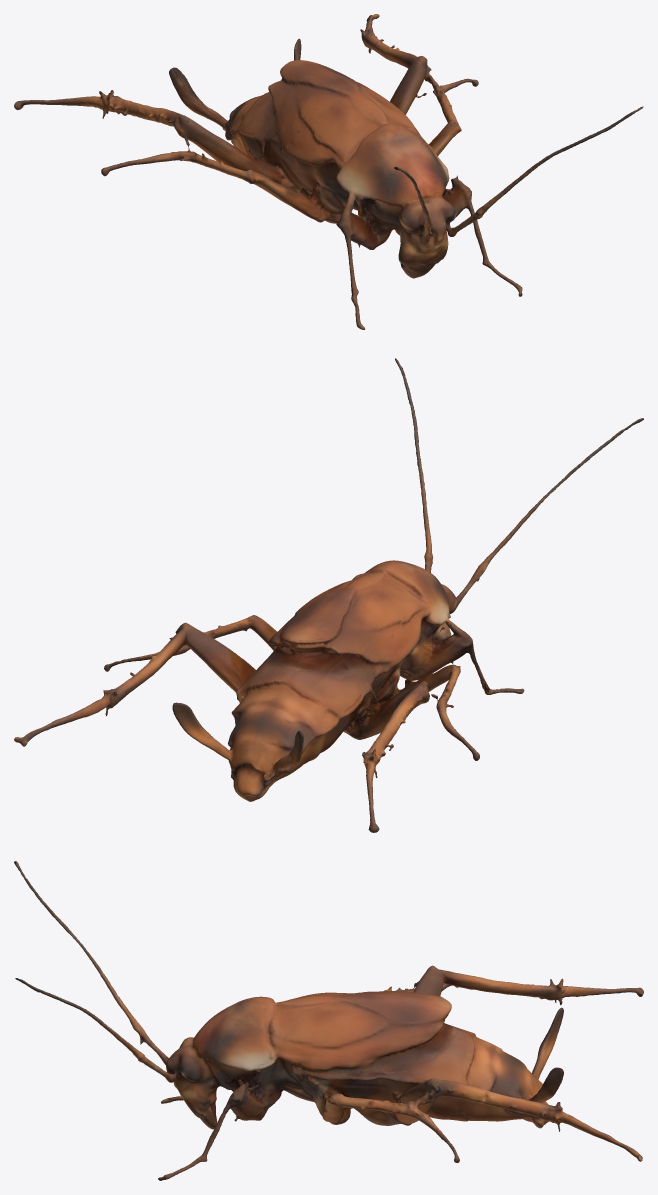
Rendered from Meshy_AI_cockroach_nymph_0425070708_texture.fbx.
The picture shows the model from 3 angles, top to bottom: view 1: azimuth 30°, elevation 25°; view 2: azimuth 150°, elevation 25°; view 3: azimuth 270°, elevation 25°; orthographic projection. The views are drawn at different scales.
Parts seen in each view (by area): view 1: Mesh_0; view 2: Mesh_0; view 3: Mesh_0.
Boxes of the visible parts, x1,y1,x2,y2 form: Mesh_0: [14, 14, 643, 329]; Mesh_0: [14, 358, 643, 832]; Mesh_0: [14, 861, 643, 1180].
Size of the model in its own units: 133 by 78.91 by 200.
Materials: 1 (1 with a texture image).
